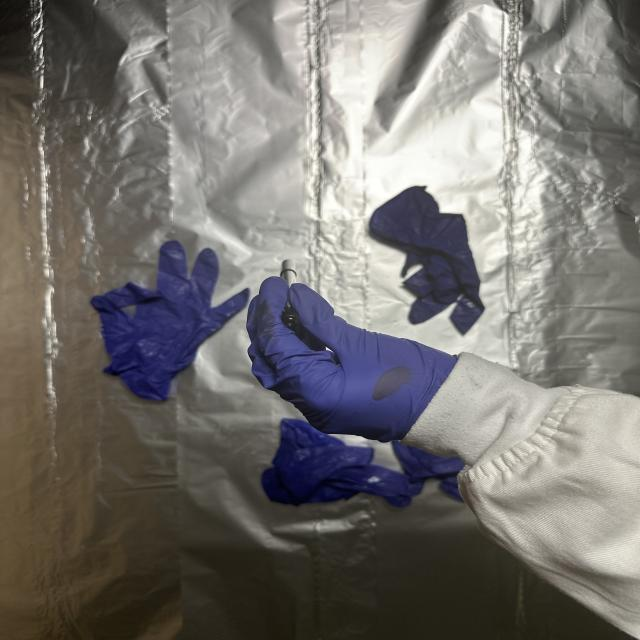gloves_contaminated: (247, 277, 457, 442)
